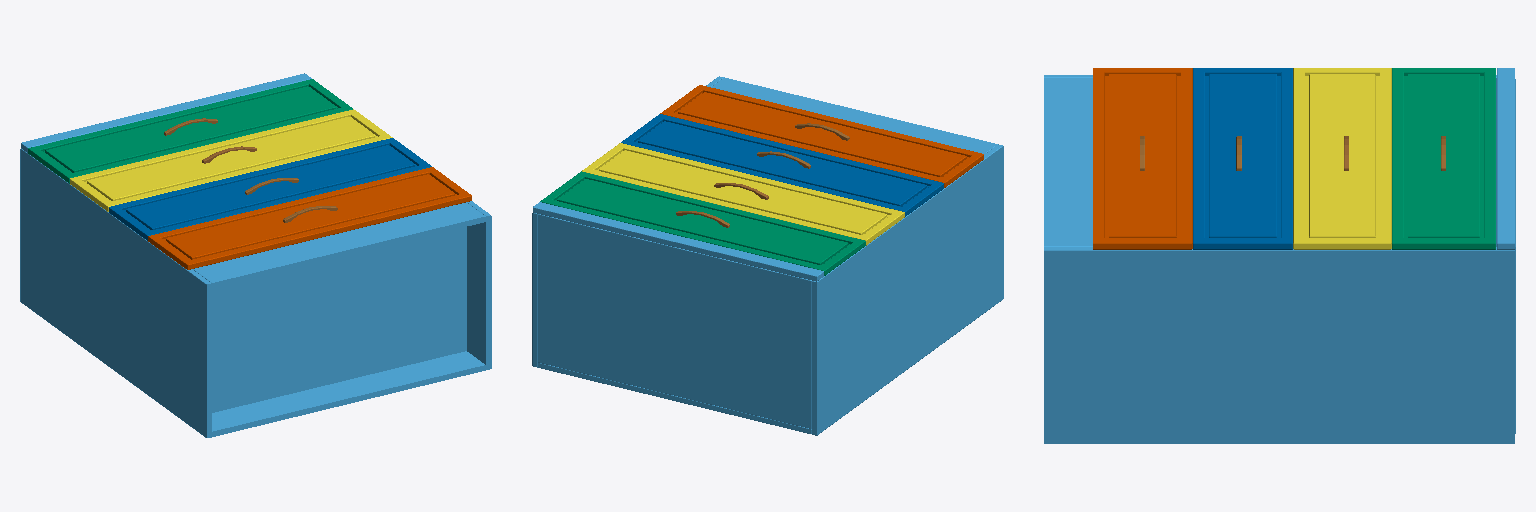
The robot description file, URDF, robot "397":
<robot name="397">


	<link name="0:virtual">
		<visual>
			<origin xyz="0.0 0.0 0.0" rpy="0 0 0"/>
			<geometry>
				<cylinder length="0" radius="0"/>
			</geometry>
		</visual>
	</link>


	<link name="1:static">
		<visual>
			<origin xyz="-0.0 -0.0 -0.0" rpy="0 0 0"/>
			<geometry>
				<mesh filename="../raw_data/397/part_meshes/1.dae" />
			</geometry>
		</visual>
	</link>


	<link name="2:drawer 1">
		<visual>
			<origin xyz="5.4001808166503906e-05 -0.7689925134181976 0.002888500690460205" rpy="0 0 0"/>
			<geometry>
				<mesh filename="../raw_data/397/part_meshes/2.dae" />
			</geometry>
		</visual>
	</link>


	<link name="3:drawer 2">
		<visual>
			<origin xyz="5.4001808166503906e-05 -0.57362499833107 0.002888500690460205" rpy="0 0 0"/>
			<geometry>
				<mesh filename="../raw_data/397/part_meshes/3.dae" />
			</geometry>
		</visual>
	</link>


	<link name="4:drawer 3">
		<visual>
			<origin xyz="5.4001808166503906e-05 -0.3823090046644211 0.002888500690460205" rpy="0 0 0"/>
			<geometry>
				<mesh filename="../raw_data/397/part_meshes/4.dae" />
			</geometry>
		</visual>
	</link>


	<link name="5:drawer 4">
		<visual>
			<origin xyz="5.4001808166503906e-05 -0.18896714970469475 0.002888500690460205" rpy="0 0 0"/>
			<geometry>
				<mesh filename="../raw_data/397/part_meshes/5.dae" />
			</geometry>
		</visual>
	</link>


	<joint name="0:virtual::1:static" type="fixed">
		<parent link="0:virtual"/>
		<child link="1:static"/>
		<origin xyz="0.0 0.0 0.0" rpy="0 0 0"/>
	</joint>


	<joint name="0:virtual::2:drawer 1_translation" type="prismatic">
		<parent link="0:virtual"/>
		<child link="2:drawer 1"/>
		<origin xyz="-5.4001808166503906e-05 0.7689925134181976 -0.002888500690460205" rpy="0 0 0"/>
		<limit lower="-0.0001615035533905" upper="0.32883849644661" effort="10" velocity="3"/>
		<axis xyz="0.0 0.0 1.0"/>
	</joint>


	<joint name="0:virtual::3:drawer 2_translation" type="prismatic">
		<parent link="0:virtual"/>
		<child link="3:drawer 2"/>
		<origin xyz="-5.4001808166503906e-05 0.57362499833107 -0.002888500690460205" rpy="0 0 0"/>
		<limit lower="-0.0001615035533905" upper="0.32883849644661" effort="10" velocity="3"/>
		<axis xyz="0.0 0.0 1.0"/>
	</joint>


	<joint name="0:virtual::4:drawer 3_translation" type="prismatic">
		<parent link="0:virtual"/>
		<child link="4:drawer 3"/>
		<origin xyz="-5.4001808166503906e-05 0.3823090046644211 -0.002888500690460205" rpy="0 0 0"/>
		<limit lower="-0.0001615035533905" upper="0.32883849644661" effort="10" velocity="3"/>
		<axis xyz="0.0 0.0 1.0"/>
	</joint>


	<joint name="0:virtual::5:drawer 4_translation" type="prismatic">
		<parent link="0:virtual"/>
		<child link="5:drawer 4"/>
		<origin xyz="-5.4001808166503906e-05 0.18896714970469475 -0.002888500690460205" rpy="0 0 0"/>
		<limit lower="-0.0001615035533905" upper="0.32883849644661" effort="10" velocity="3"/>
		<axis xyz="0.0 0.0 1.0"/>
	</joint>


</robot>

--- What the picture shows (computed from the rendered views, not written in the file) ---
3 views of the same robot in one strip: view 1: azimuth 30°, elevation 25°; view 2: azimuth 150°, elevation 25°; view 3: azimuth 270°, elevation 25° (orthographic).
Robot: 397 — 6 links, 5 joints (4 prismatic, 1 fixed); root link 0:virtual; default pose: all joints at 0.
Visible links, largest first — view 1: 1:static, 5:drawer 4, 2:drawer 1, 4:drawer 3, 3:drawer 2; view 2: 1:static, 2:drawer 1, 5:drawer 4, 4:drawer 3, 3:drawer 2; view 3: 1:static, 2:drawer 1, 4:drawer 3, 5:drawer 4, 3:drawer 2.
Link boxes in pixels (x1,y1,x2,y2): 1:static: (20, 73, 491, 437); 5:drawer 4: (148, 167, 471, 269); 2:drawer 1: (28, 79, 352, 183); 4:drawer 3: (109, 138, 431, 240); 3:drawer 2: (70, 109, 392, 211); 1:static: (532, 76, 1003, 435); 2:drawer 1: (540, 171, 865, 275); 5:drawer 4: (660, 85, 983, 187); 4:drawer 3: (621, 114, 943, 216); 3:drawer 2: (582, 143, 904, 245); 1:static: (1044, 68, 1515, 443); 2:drawer 1: (1392, 68, 1495, 249); 4:drawer 3: (1193, 68, 1292, 249); 5:drawer 4: (1093, 68, 1192, 249); 3:drawer 2: (1293, 68, 1391, 249).
Size in the robot's own frame: 0.7998 by 0.9069 by 0.4496 metres.
5 mesh visuals loaded from 5 distinct referenced files (5 Collada DAE).